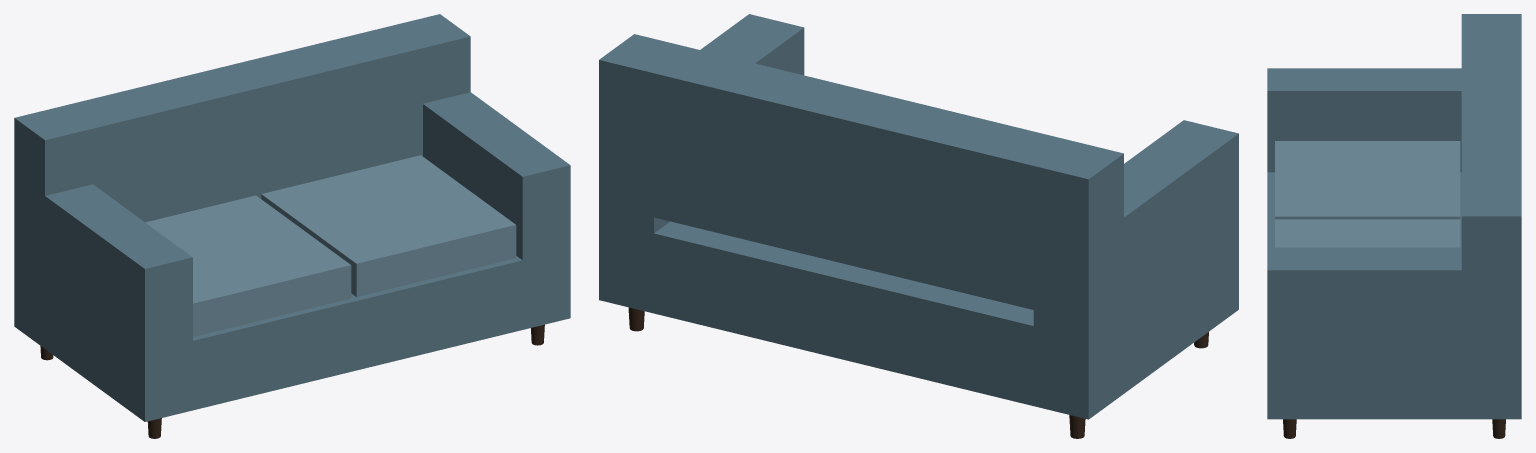
The model's file is sofa.glb.
The picture shows the model from 3 angles, left to right: view 1: azimuth 30°, elevation 25°; view 2: azimuth 150°, elevation 25°; view 3: azimuth 270°, elevation 25°; orthographic projection. The views are drawn at different scales.
Visible parts, largest first — view 1: Sofa; view 2: Sofa; view 3: Sofa.
Part boxes in pixels (x1,y1,x2,y2): Sofa: (14, 14, 570, 438); Sofa: (599, 14, 1238, 438); Sofa: (1267, 14, 1521, 438).
Size of the model in its own units: 1.6 by 0.85 by 0.85.
